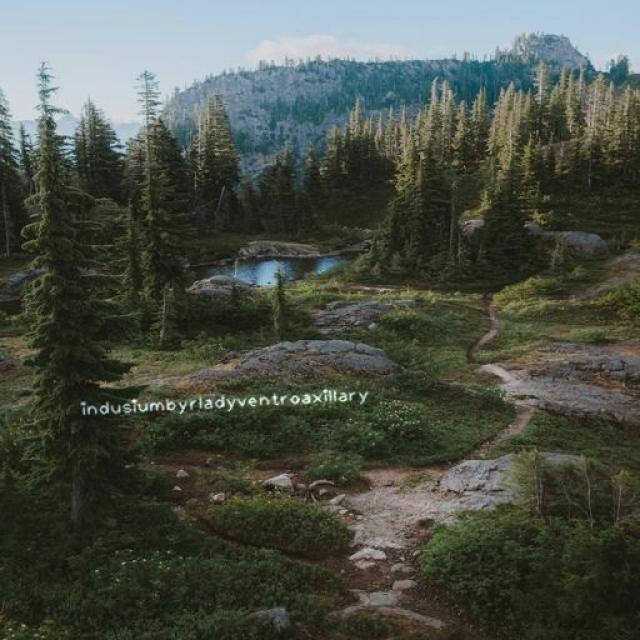watermark: (76, 386, 368, 418)
